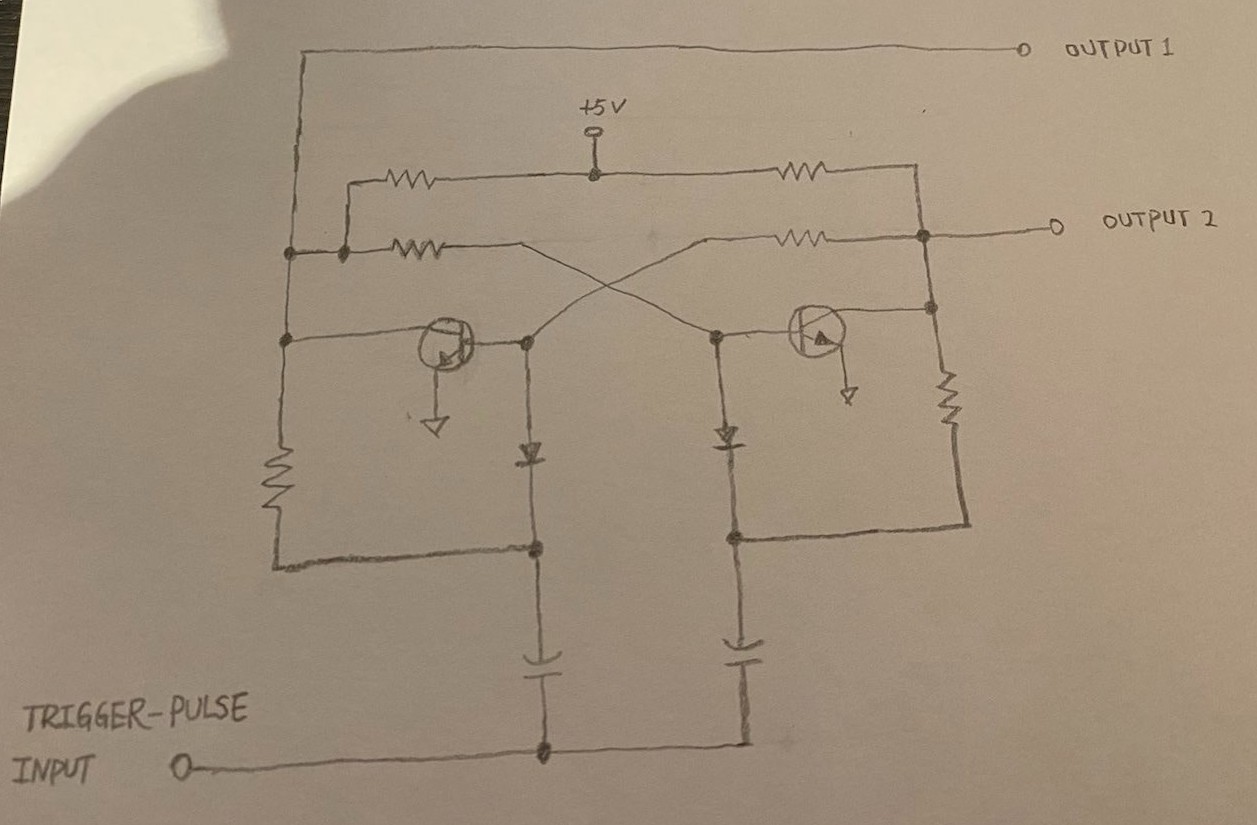capacitor.unpolarized: (715, 635, 772, 672), (519, 648, 570, 684)
diode: (513, 436, 553, 477), (708, 422, 750, 456)
gnd: (418, 411, 458, 442), (833, 379, 865, 409)
junction: (715, 519, 755, 555), (948, 507, 985, 544), (519, 531, 558, 566), (526, 732, 559, 768), (273, 321, 304, 358), (728, 727, 763, 759), (589, 268, 622, 301), (511, 323, 543, 357), (916, 292, 948, 325), (262, 553, 298, 580), (907, 218, 939, 248), (700, 319, 728, 352), (278, 237, 307, 268), (292, 36, 319, 69), (328, 237, 356, 268), (691, 229, 724, 255), (583, 161, 613, 187), (509, 229, 539, 255), (900, 153, 928, 177), (338, 169, 361, 196)
resistor: (261, 444, 294, 513), (933, 368, 967, 433), (387, 233, 451, 264), (770, 155, 833, 184), (767, 224, 833, 250), (382, 164, 441, 192)
terminal: (159, 747, 203, 787), (1041, 214, 1072, 242), (581, 122, 609, 153), (1011, 37, 1039, 61)
text: (20, 689, 254, 734), (1063, 31, 1176, 66), (8, 748, 101, 789), (1100, 205, 1224, 235), (576, 91, 631, 117)
transistor: (785, 303, 854, 361), (416, 314, 479, 374)
